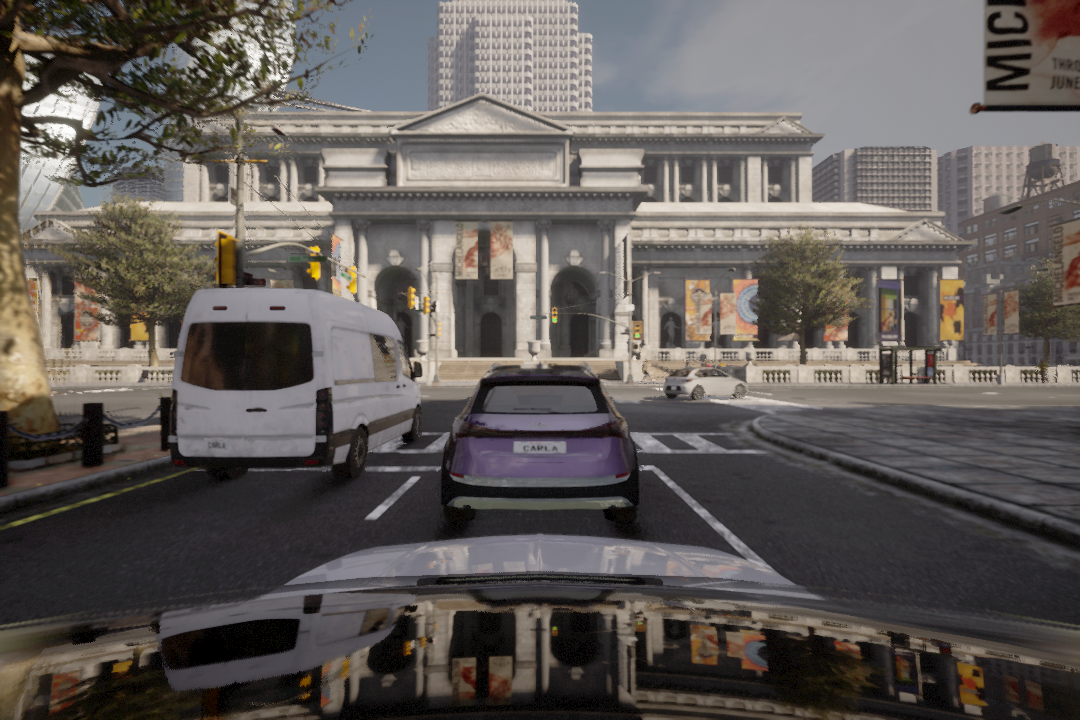TrafficLight: (631, 321, 642, 340), (551, 307, 558, 324)
